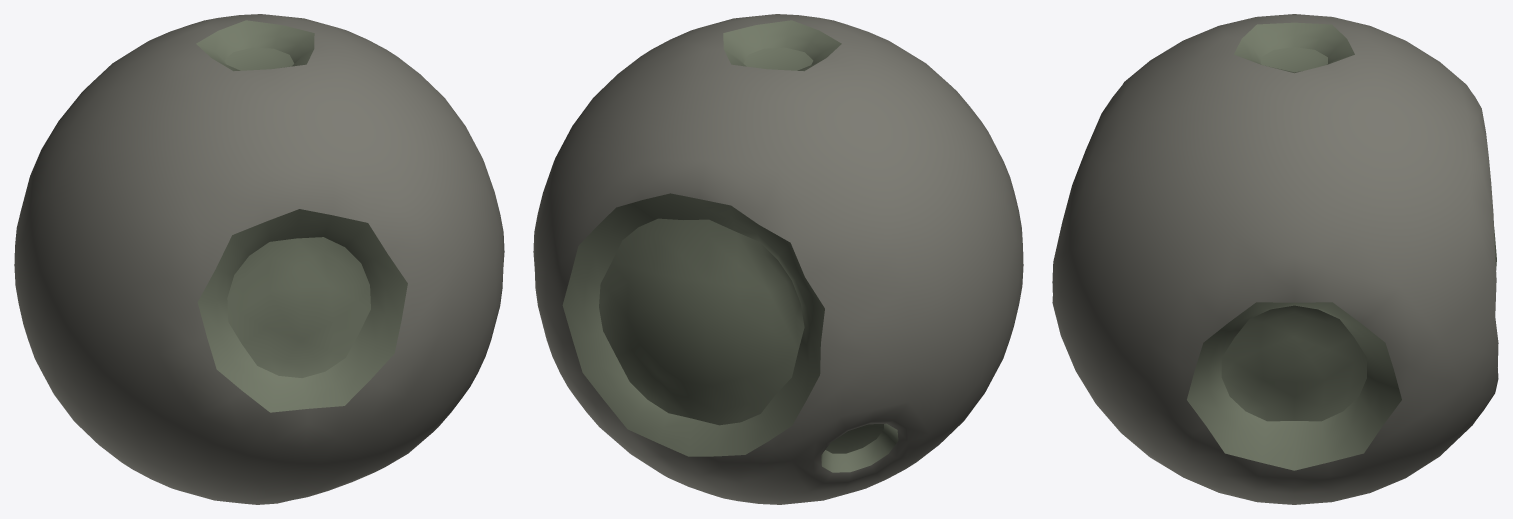
The model's file is n_planet_3.glb.
The picture shows the model from 3 angles, left to right: view 1: azimuth 30°, elevation 25°; view 2: azimuth 150°, elevation 25°; view 3: azimuth 270°, elevation 25°; orthographic projection.
Visible parts, largest first — view 1: Planet_3; view 2: Planet_3; view 3: Planet_3.
Boxes of the visible parts, box(x1,y1,x2,y2) form: Planet_3: box(14, 14, 504, 504); Planet_3: box(533, 14, 1023, 504); Planet_3: box(1052, 14, 1498, 504).
Size of the model in its own units: 3.63 by 3.65 by 3.38.
1 material, 1 textured.
